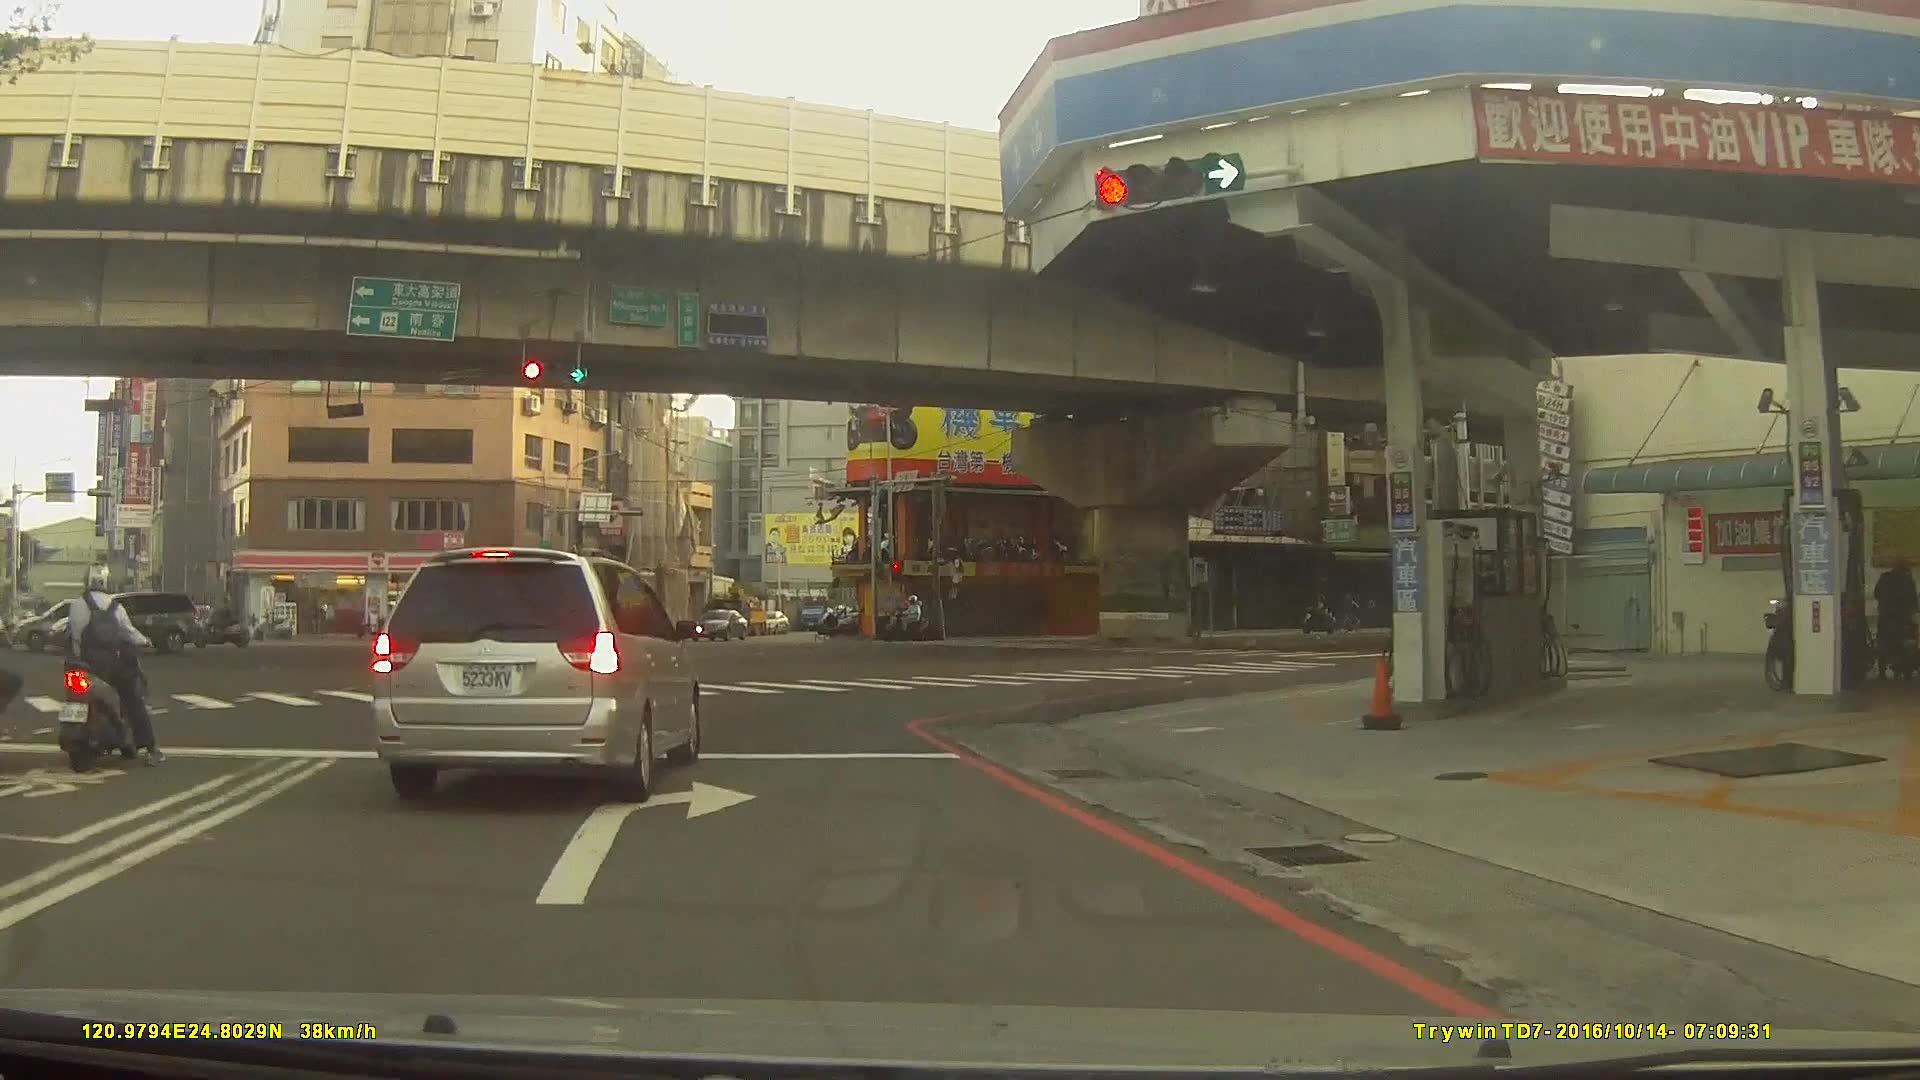rider: (59, 566, 164, 771), (1, 575, 21, 760), (187, 596, 253, 647), (886, 593, 931, 639)
vehicle: (367, 545, 700, 802), (47, 589, 201, 653), (694, 608, 750, 640), (543, 606, 605, 633)
